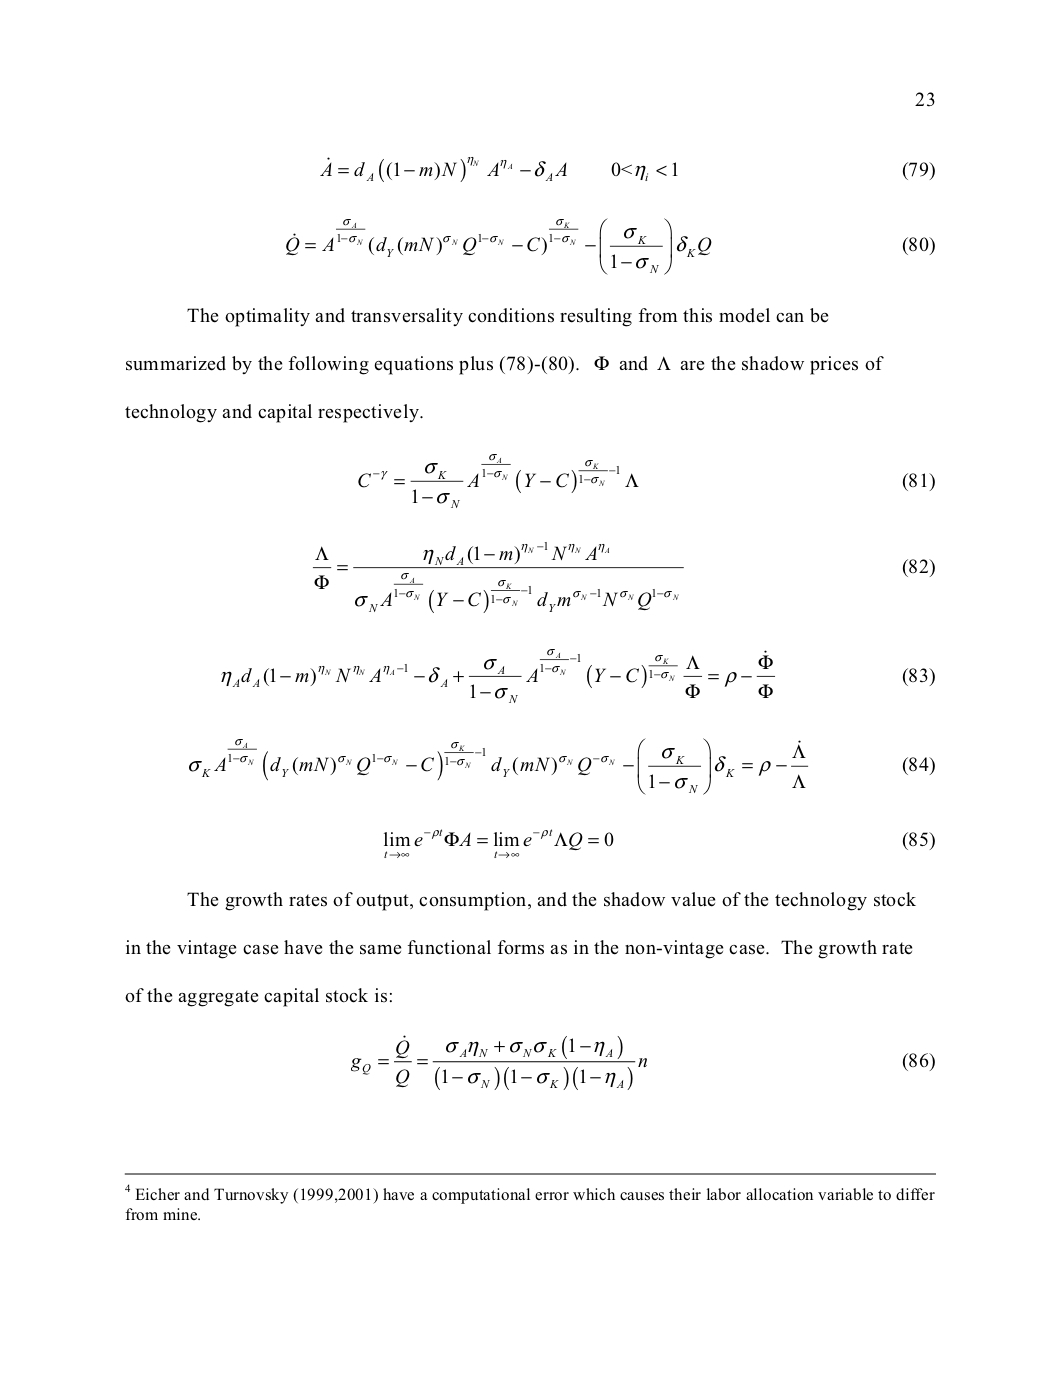formula: (312, 541, 934, 613), (189, 737, 934, 795), (221, 647, 934, 703), (286, 217, 934, 275), (351, 1034, 934, 1090), (358, 452, 934, 508), (383, 828, 934, 858), (320, 155, 934, 182)
